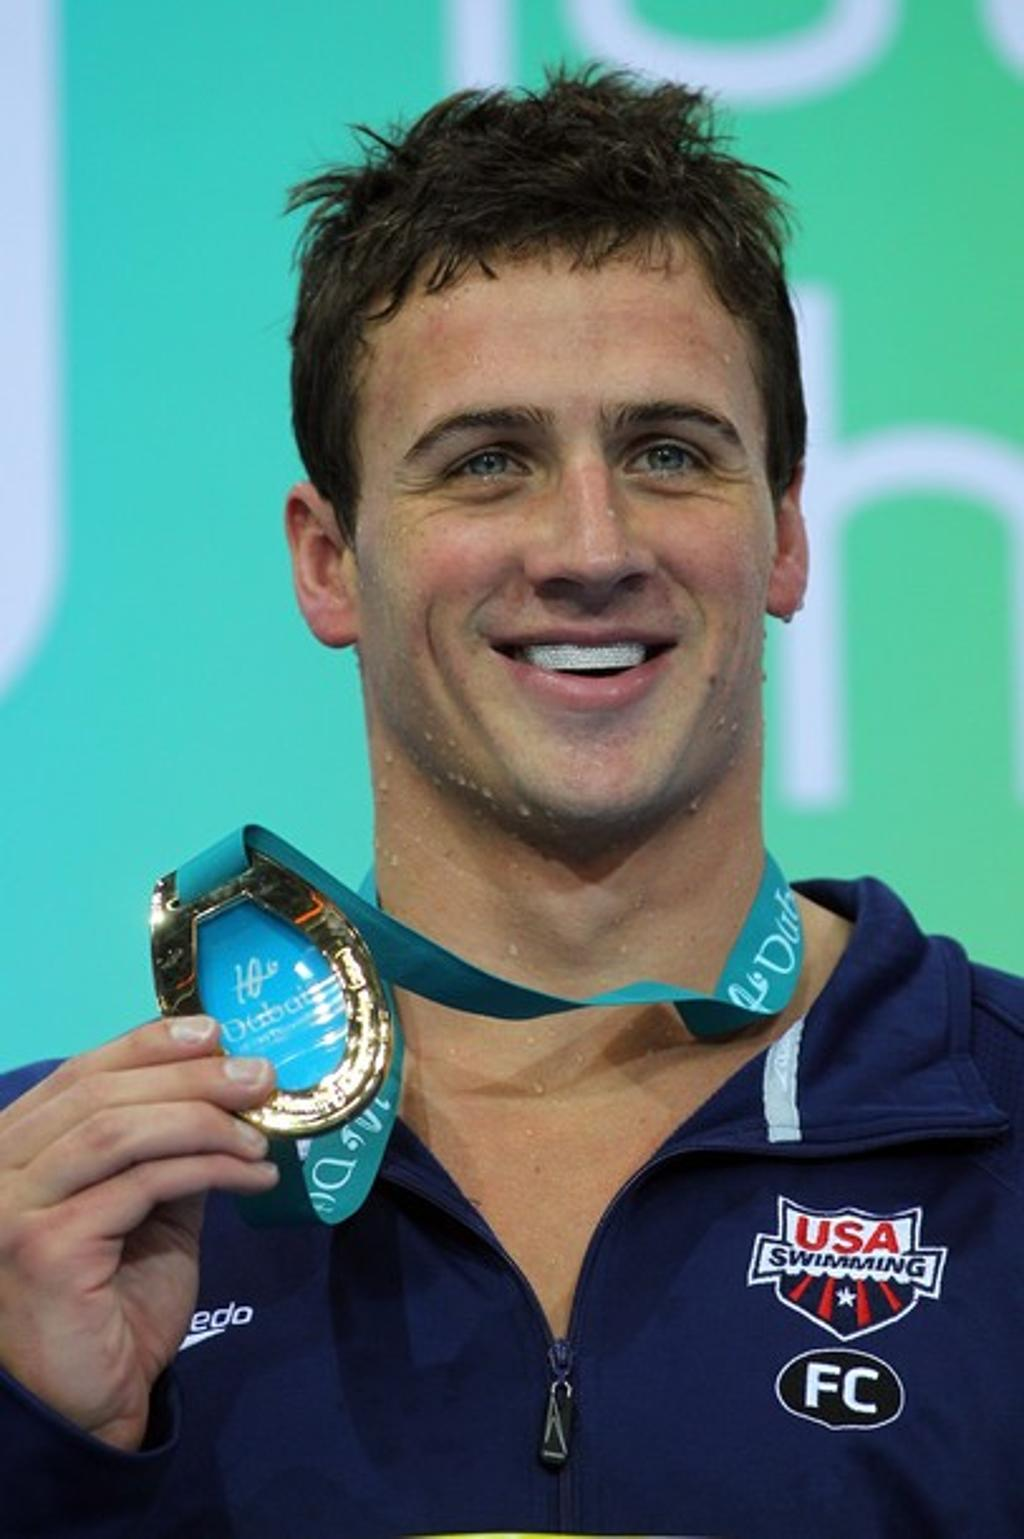face: (366, 309, 771, 829)
